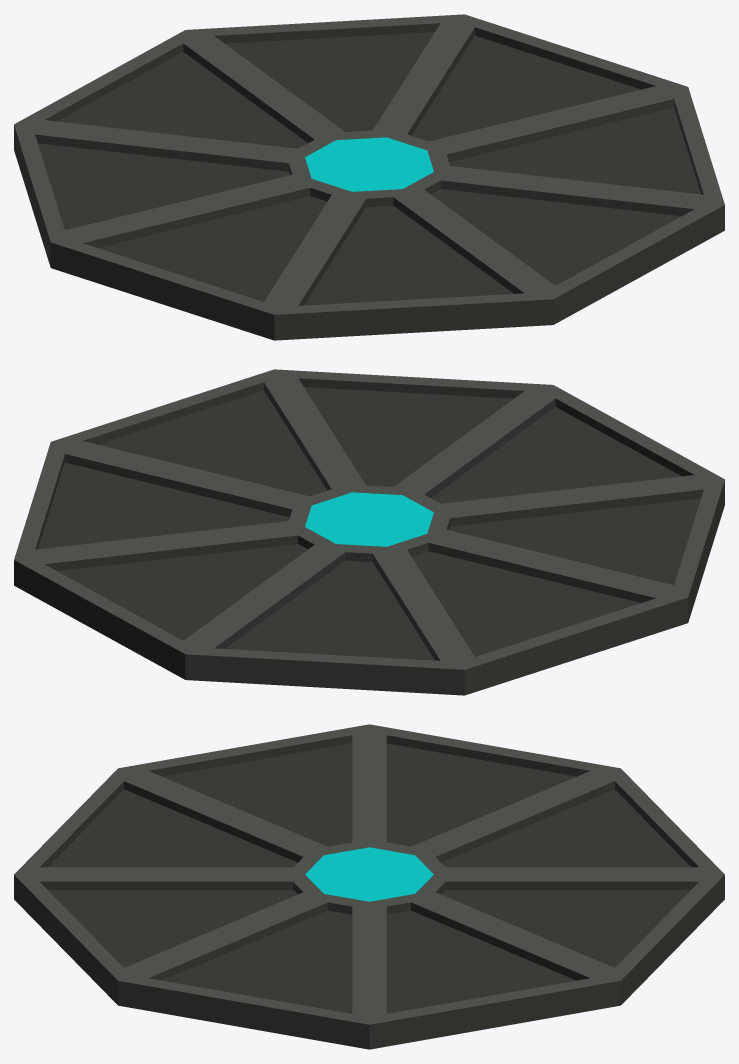
The model's file is Sewer_Cover.glb.
3 views of the same model, one above another, from view 1: azimuth 30°, elevation 25°; view 2: azimuth 150°, elevation 25°; view 3: azimuth 270°, elevation 25° (orthographic). The views are drawn at different scales.
Parts seen in each view (by area): view 1: SewerCover; view 2: SewerCover; view 3: SewerCover.
Boxes of the visible parts, bbox=[...] form: SewerCover: bbox=[14, 14, 724, 340]; SewerCover: bbox=[14, 369, 724, 695]; SewerCover: bbox=[14, 724, 724, 1049].
Size of the model in its own units: 1.41 by 0.0544 by 1.41.
Materials: 1 (1 with a texture image).
